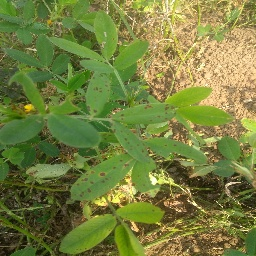GroundNut_Leaf: (70, 153, 132, 202), (59, 215, 116, 253), (47, 116, 101, 149), (145, 137, 209, 163), (14, 70, 46, 115), (179, 104, 234, 128), (113, 103, 175, 124), (94, 11, 119, 62), (1, 116, 43, 146), (87, 67, 109, 115), (134, 159, 159, 199), (1, 14, 33, 42), (118, 204, 165, 223), (163, 86, 212, 103), (119, 227, 146, 256), (111, 127, 142, 151), (216, 135, 242, 161), (65, 1, 88, 29), (7, 49, 36, 68), (26, 165, 69, 177), (37, 36, 54, 65), (244, 118, 256, 145), (244, 228, 256, 254), (211, 166, 236, 178)
